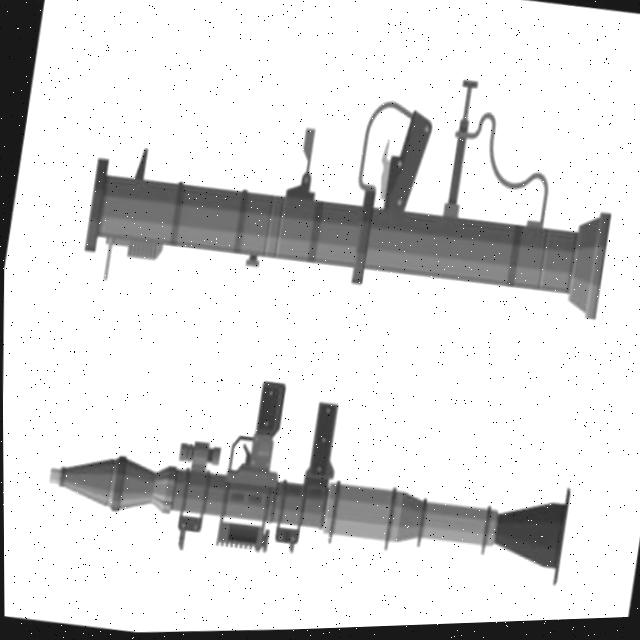rocket: (77, 24, 635, 345), (41, 365, 577, 612)
